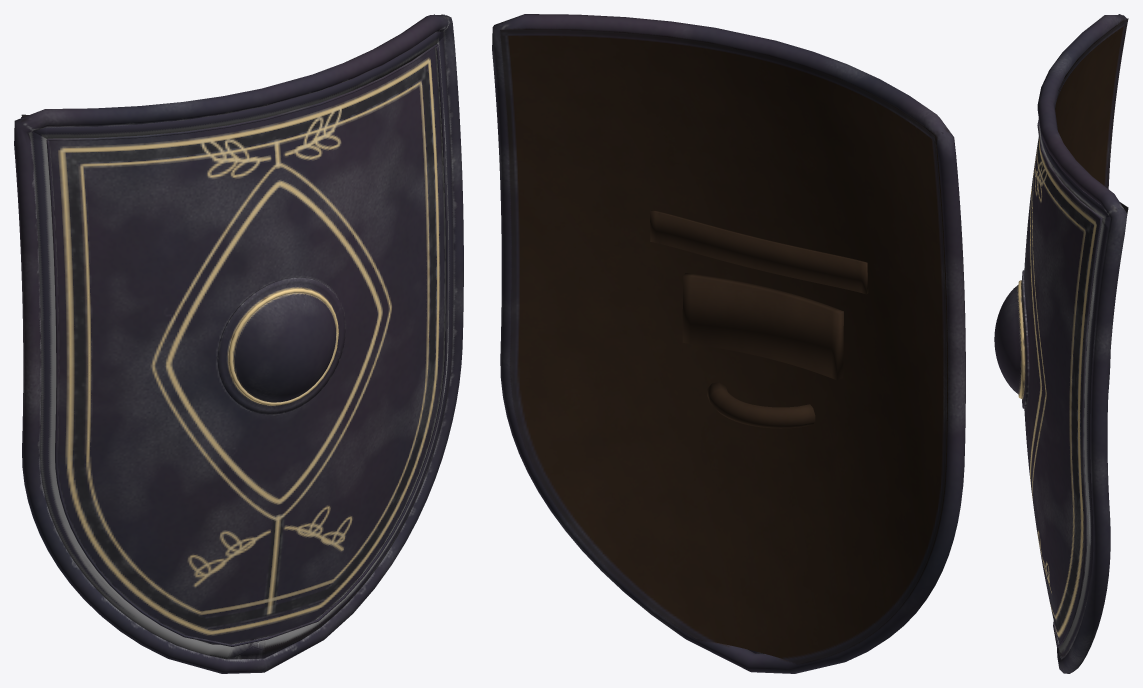
Rendered from SM_ObsidianSovereign_Shield.fbx.
3 views of the same model, side by side, from view 1: azimuth 30°, elevation 25°; view 2: azimuth 150°, elevation 25°; view 3: azimuth 270°, elevation 25° (orthographic). The views are drawn at different scales.
Visible parts, largest first — view 1: SM_ObsidianSovereign_Shield; view 2: SM_ObsidianSovereign_Shield; view 3: SM_ObsidianSovereign_Shield.
Boxes of the visible parts, x1,y1,x2,y2 form: SM_ObsidianSovereign_Shield: [14, 14, 463, 673]; SM_ObsidianSovereign_Shield: [492, 14, 965, 673]; SM_ObsidianSovereign_Shield: [994, 14, 1128, 673].
Size of the model in its own units: 62.04 by 17.46 by 80.17.
